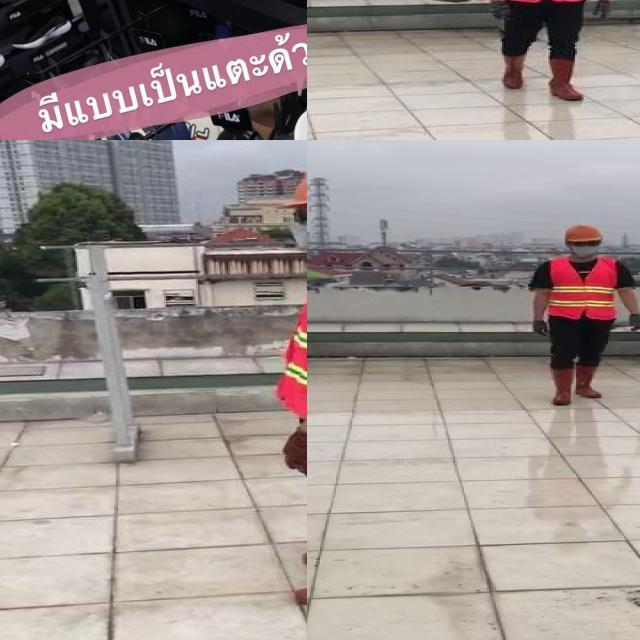boots: (548, 58, 582, 103), (546, 365, 578, 406), (574, 364, 604, 400), (502, 53, 525, 90)
face_mask: (287, 205, 307, 252)
hand_glove: (285, 430, 307, 472), (491, 1, 511, 21), (594, 0, 612, 17)
head_helmet: (563, 223, 603, 243)
person: (258, 155, 307, 612), (525, 222, 640, 410), (481, 0, 616, 107)
vest: (548, 258, 620, 321)
